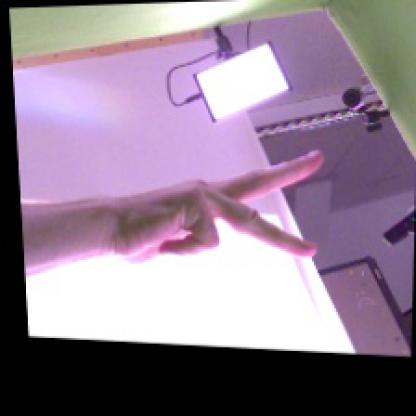Hand: (109, 152, 325, 262)
